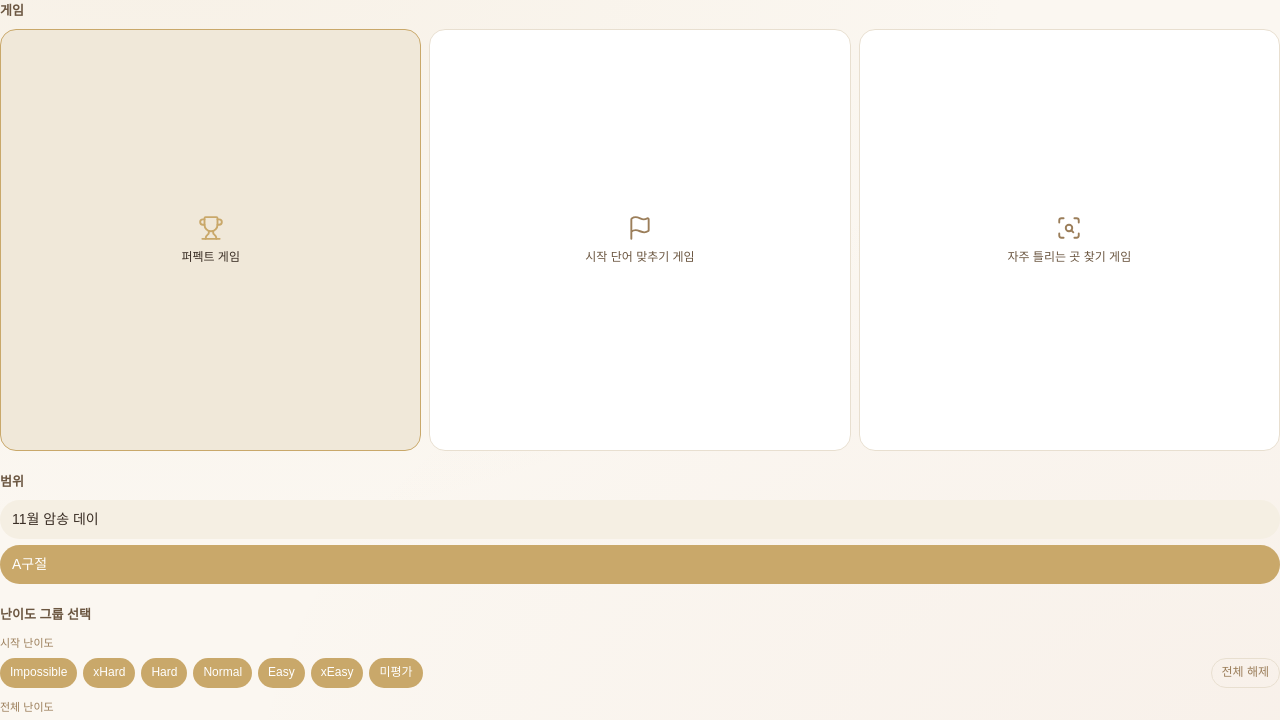
QuizScopePicker opening word count › offers the count as a slider once 시작 단어 is chosen
The image size is (1280, 720).
Click the button "시작 단어 맞추기 게임" at coordinates (640, 240), box 429,29 -> 851,451
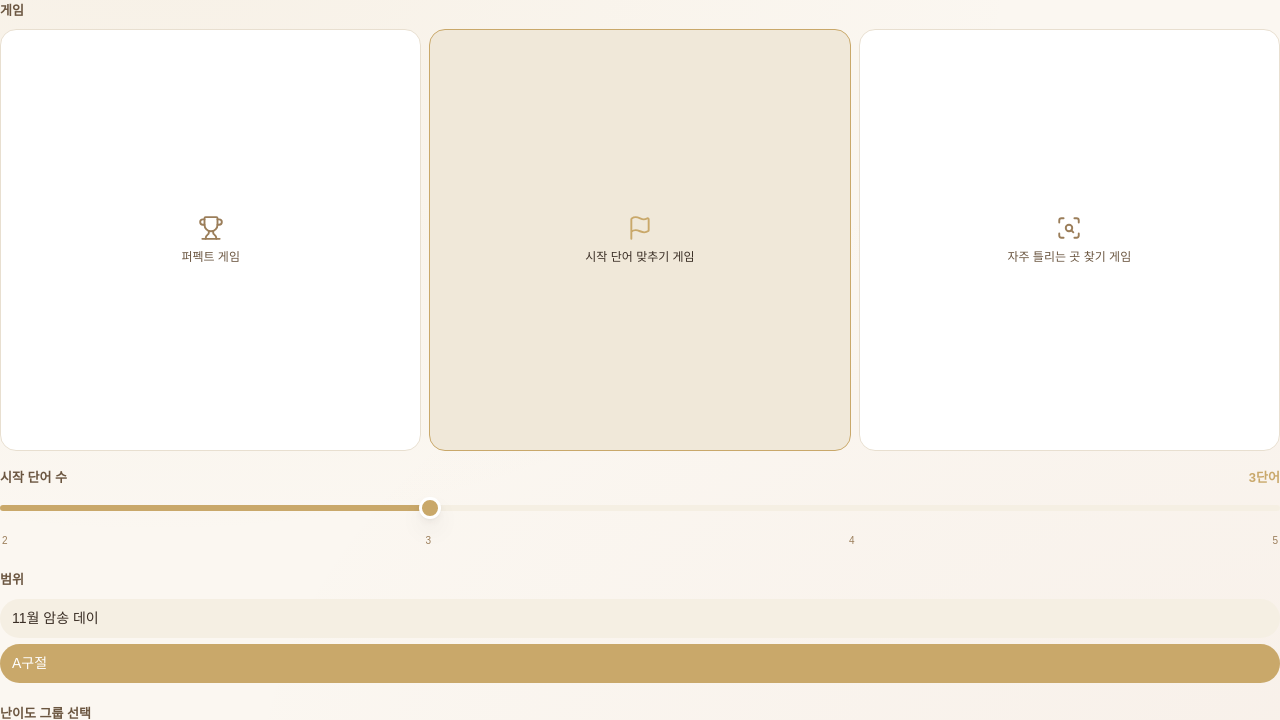
Now the slider labelled "시작 단어 수" holds "3", box 0,496 -> 1279,520
